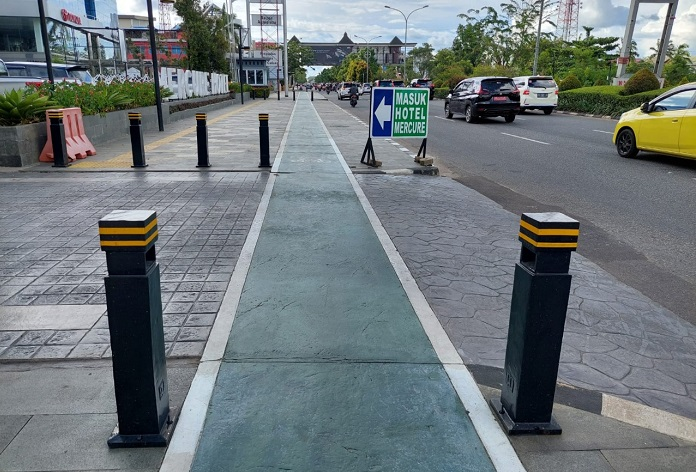bollard: (485, 200, 586, 444), (91, 204, 179, 453), (124, 110, 149, 169), (193, 111, 212, 170), (256, 113, 273, 169)
